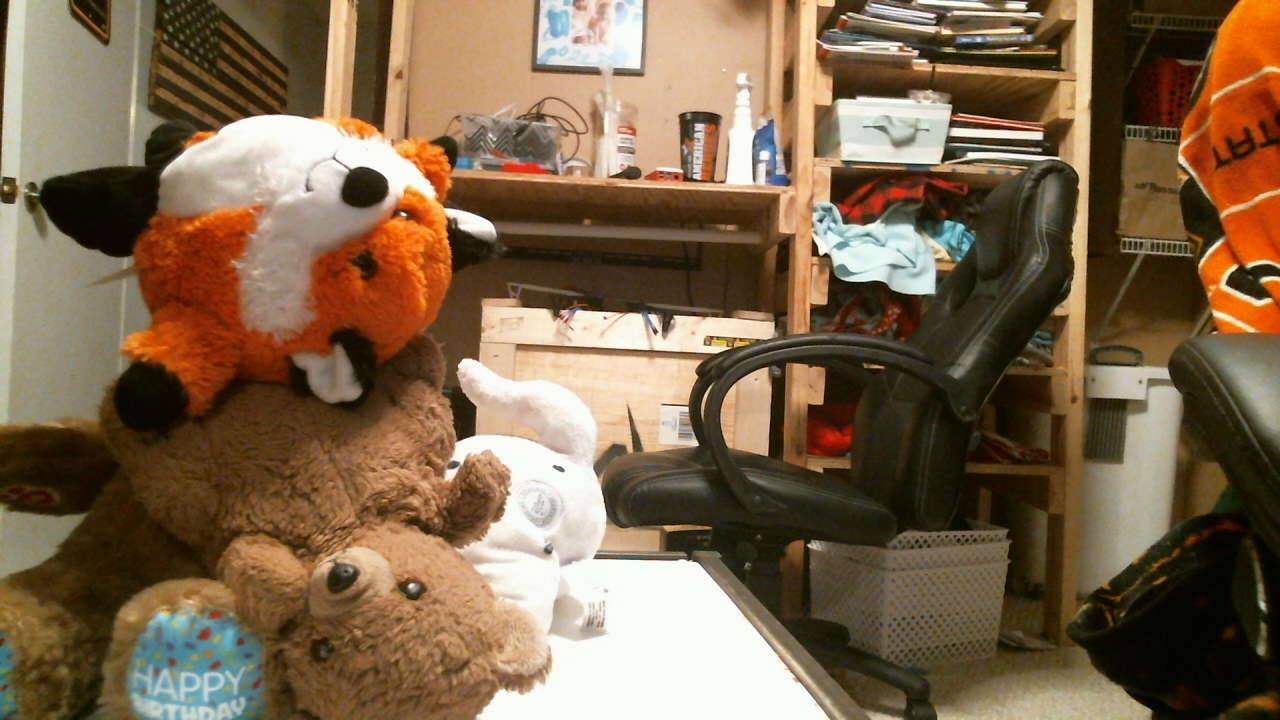Little_Mister_Bear: (264, 532, 545, 720)
